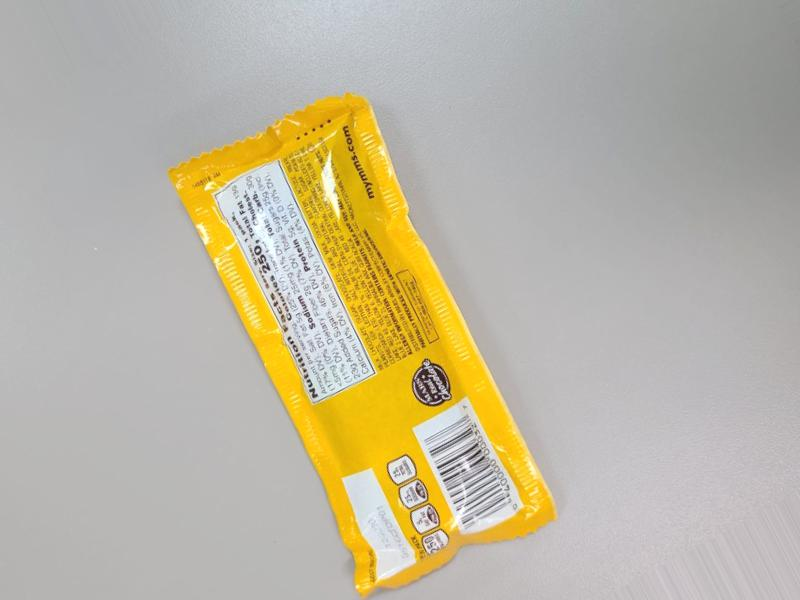m&m: (173, 185, 535, 600)
